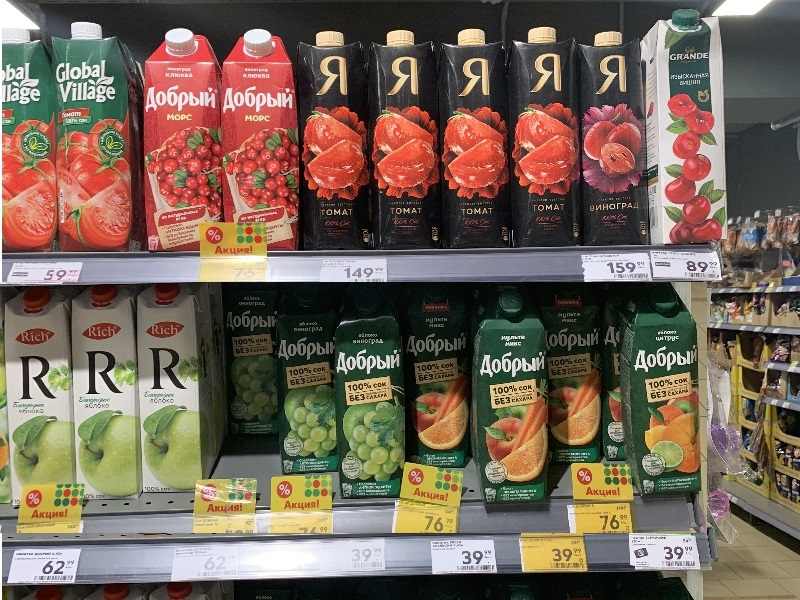juice: (354, 27, 459, 264), (43, 19, 144, 259), (132, 29, 230, 263), (643, 8, 732, 258), (214, 29, 310, 259), (496, 21, 588, 256), (435, 27, 527, 255), (473, 296, 566, 519), (70, 285, 159, 508), (319, 289, 410, 505), (619, 292, 708, 509), (130, 282, 217, 497), (576, 26, 656, 255), (3, 284, 86, 501)
